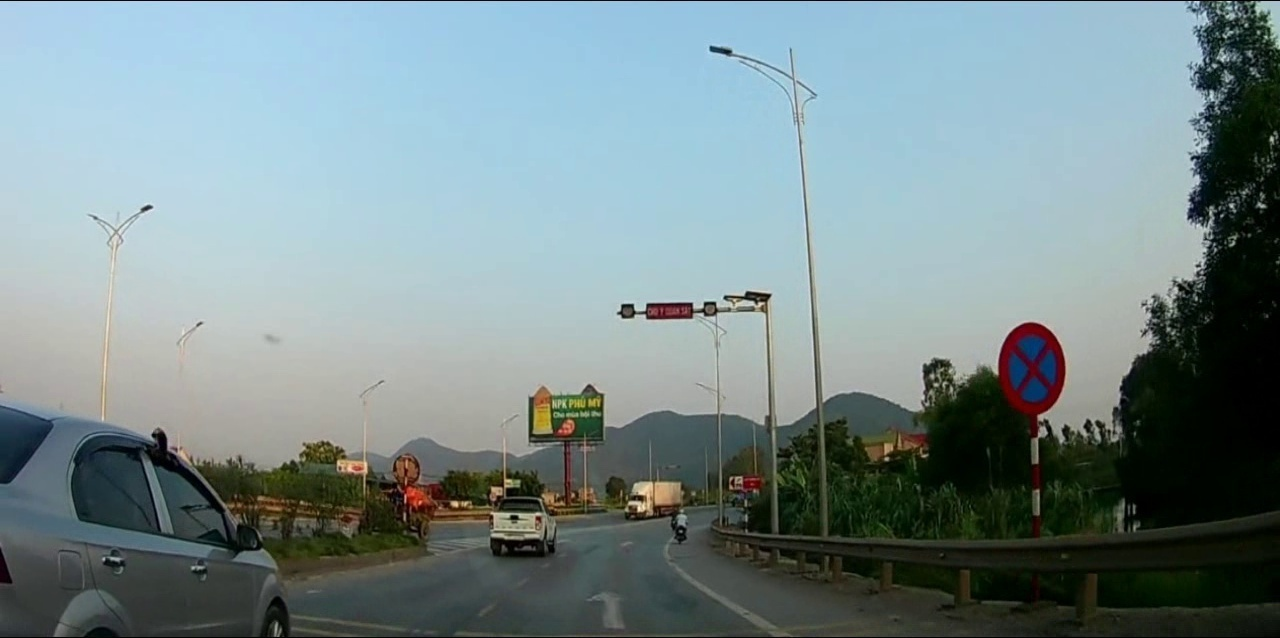Bien khac: (995, 319, 1070, 417)
